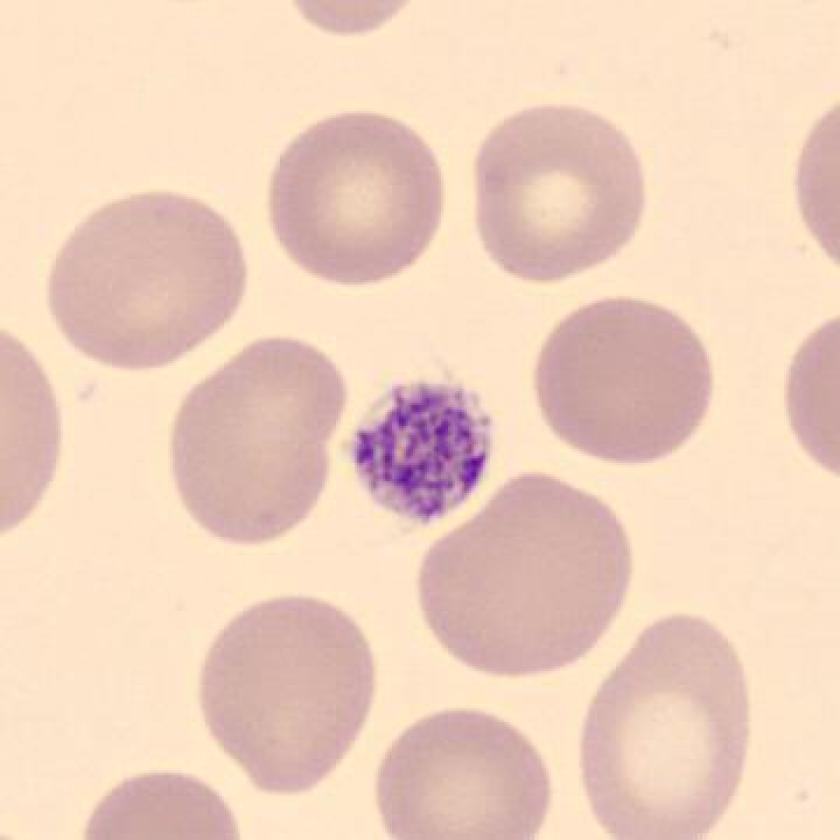platelets: (335, 364, 505, 538)
